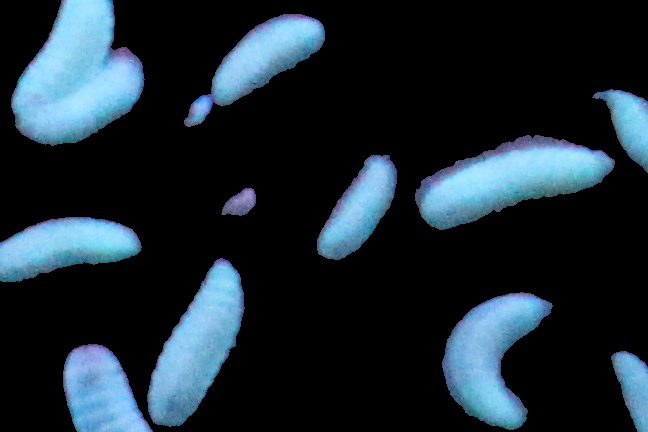larvae: (417, 133, 617, 233), (442, 279, 554, 428), (150, 264, 247, 432), (10, 1, 116, 123), (211, 12, 327, 112), (30, 52, 141, 145), (314, 158, 398, 267), (58, 340, 153, 432), (1, 216, 143, 277)
